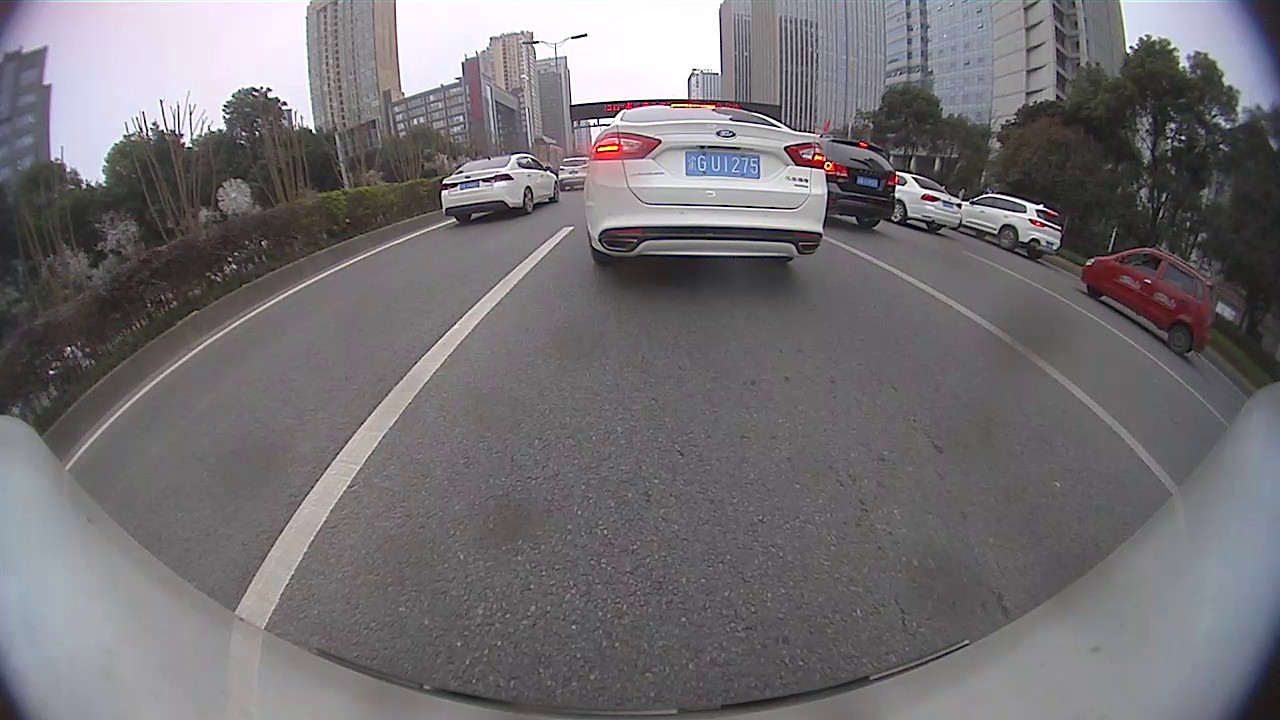car: (584, 101, 828, 265), (1078, 242, 1216, 358), (440, 152, 562, 225), (818, 135, 897, 230), (962, 193, 1062, 261), (886, 171, 964, 232), (557, 156, 591, 190)
rear: (1170, 319, 1198, 349), (888, 199, 910, 227), (521, 186, 537, 217), (998, 226, 1017, 247)
